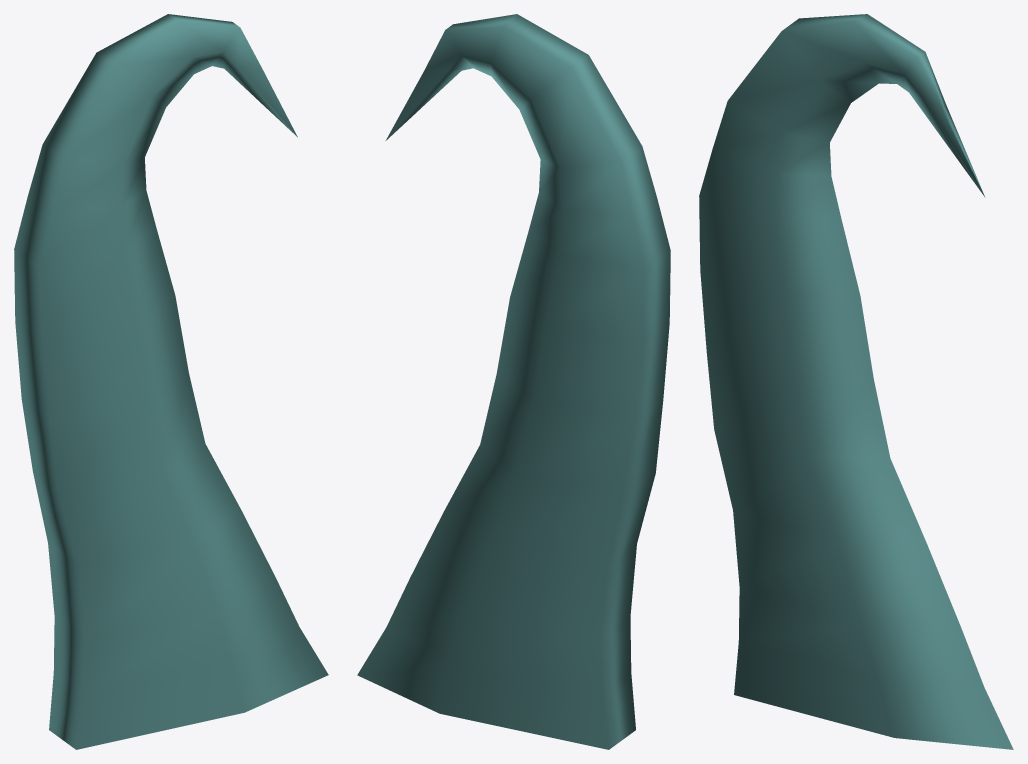
The model's file is grassBlade.fbx.
3 renders of one model, left to right at view 1: azimuth 30°, elevation 25°; view 2: azimuth 150°, elevation 25°; view 3: azimuth 330°, elevation 25°, orthographic.
Visible parts, largest first — view 1: pCone1; view 2: pCone1; view 3: pCone1.
Part boxes in pixels (x1=…): pCone1: x1=14, y1=14, x2=328, y2=749; pCone1: x1=357, y1=14, x2=670, y2=749; pCone1: x1=699, y1=14, x2=1013, y2=749.
Size of the model in its own units: 8.32 by 18.34 by 2.
